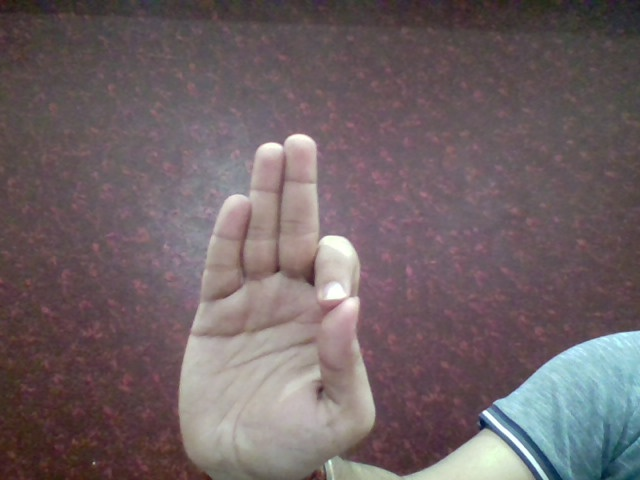f: (174, 130, 389, 469)
